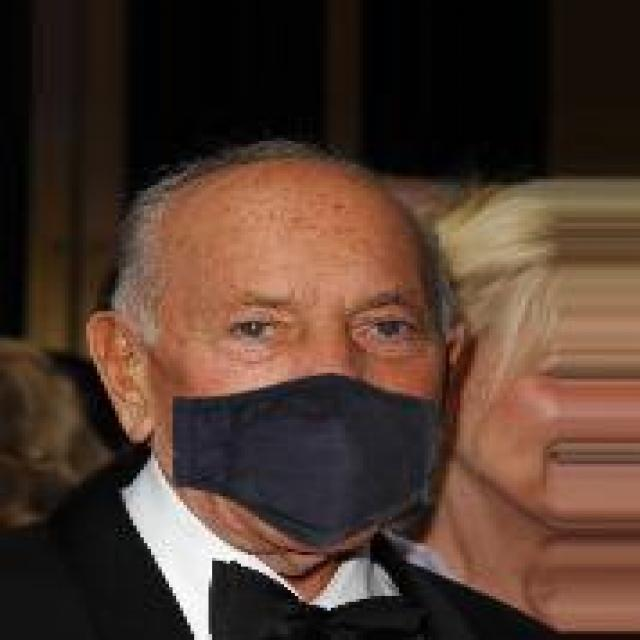mask: (58, 76, 546, 558)
